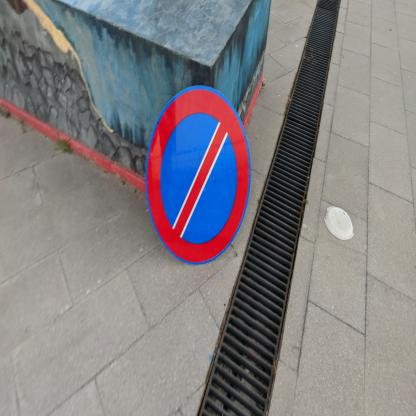No Waiting: (147, 87, 253, 265)
